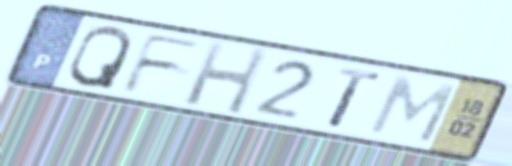2: (250, 58, 320, 122)
F: (117, 31, 208, 95)
H: (179, 38, 272, 118)
M: (364, 73, 461, 146)
Q: (65, 24, 137, 92)
T: (325, 64, 385, 130)
